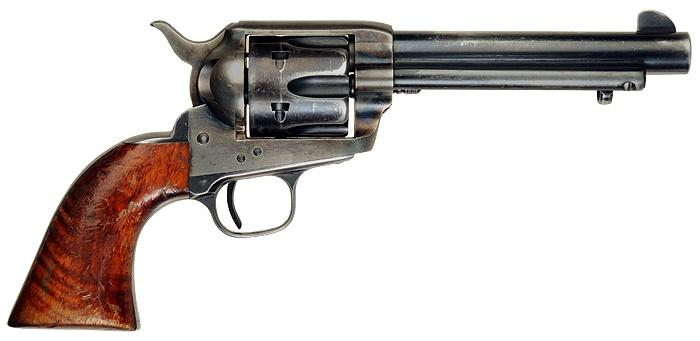gun: (10, 10, 700, 341)
